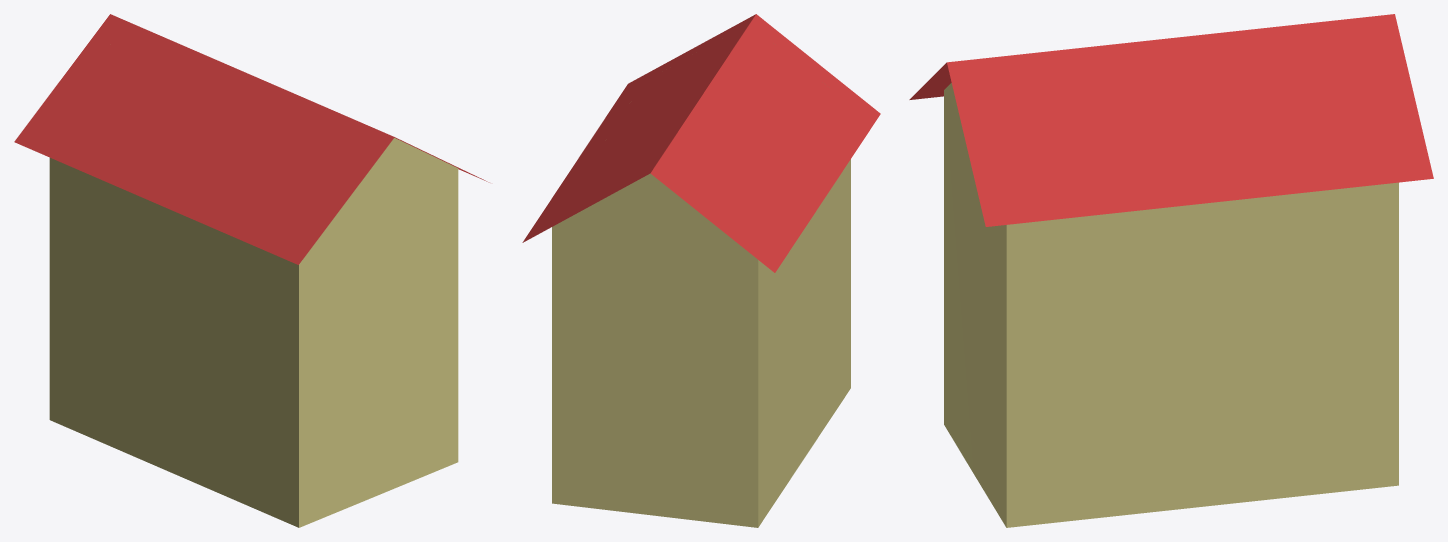
The picture shows the model from 3 angles, left to right: view 1: azimuth 30°, elevation 25°; view 2: azimuth 150°, elevation 25°; view 3: azimuth 270°, elevation 25°; orthographic projection. The views are drawn at different scales.
Size of the model in its own units: 7.23 by 9.15 by 8.
